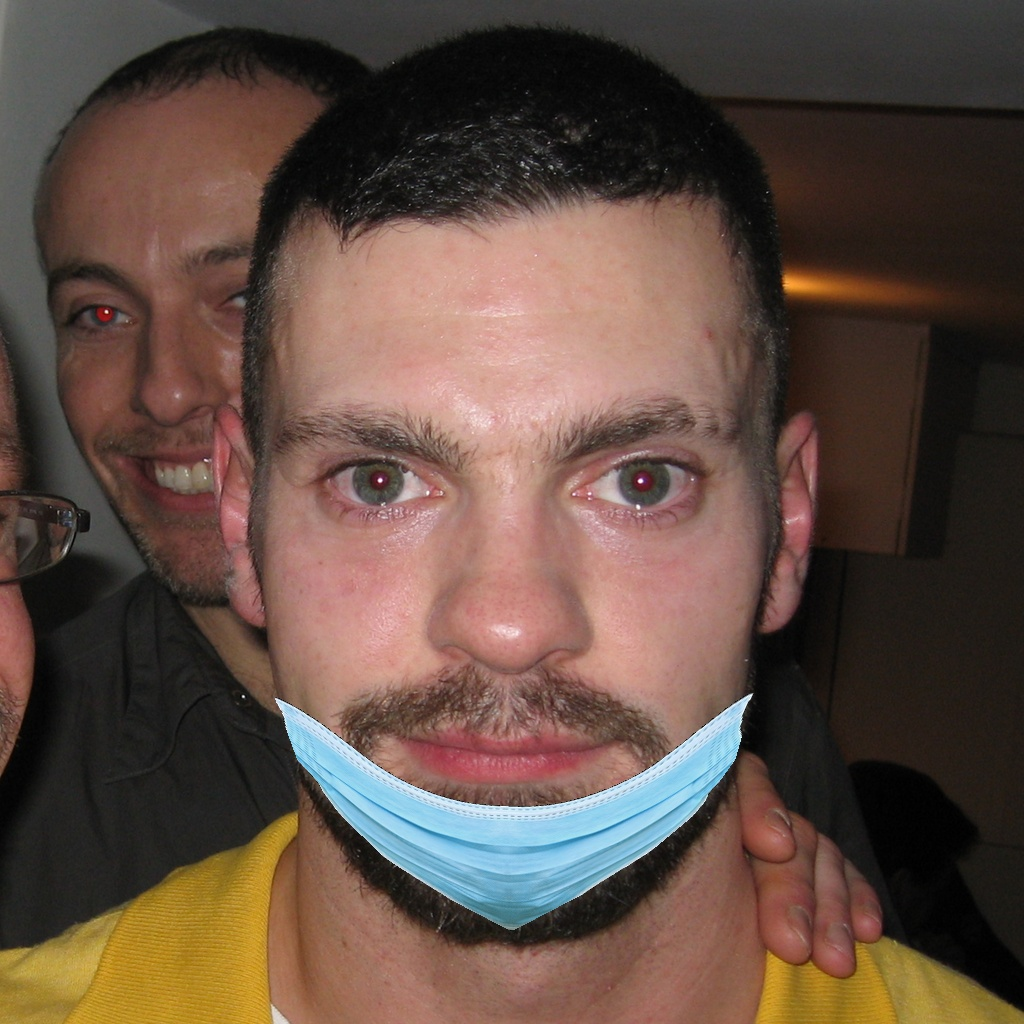mascarilla_mal_puesta: (219, 355, 777, 943)
